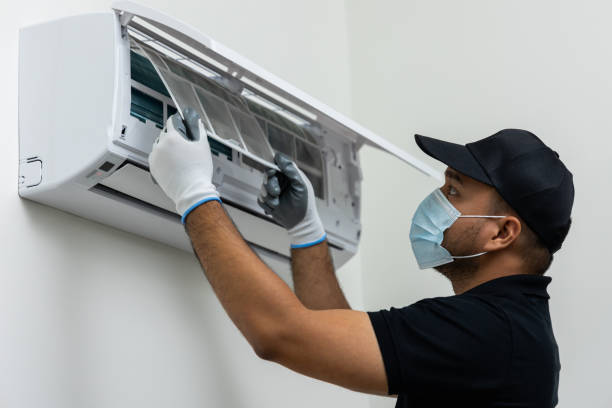with mask: (397, 150, 502, 273)
